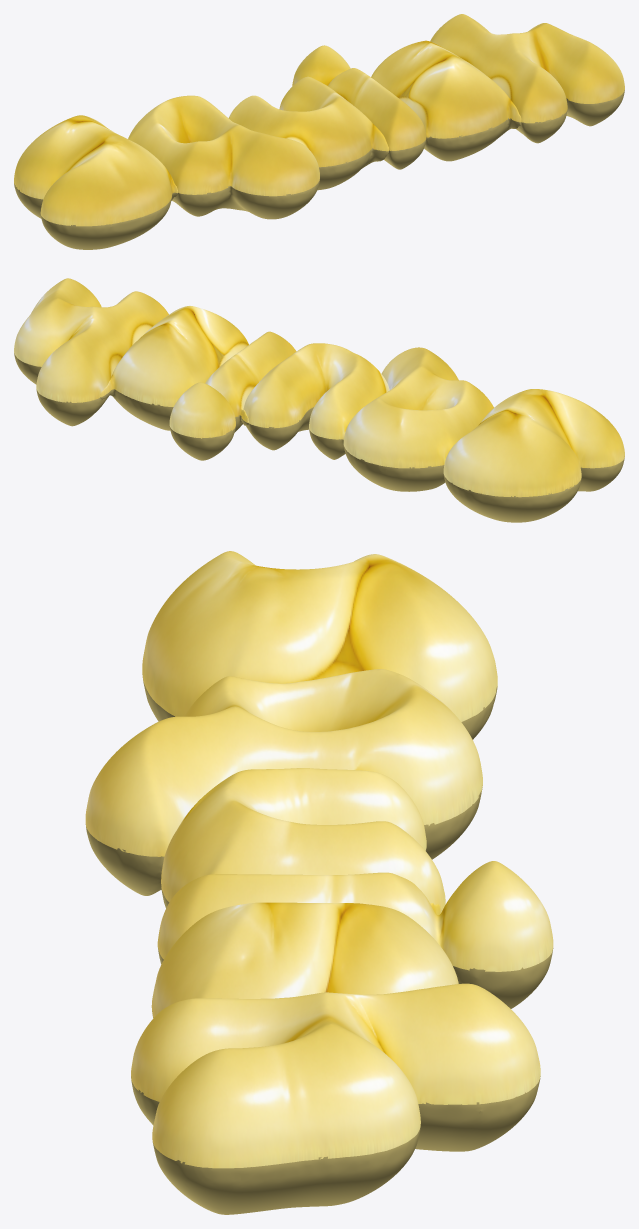
The model's file is squish-yellow-smoothed.glb.
The picture shows the model from 3 angles, top to bottom: view 1: azimuth 30°, elevation 25°; view 2: azimuth 150°, elevation 25°; view 3: azimuth 270°, elevation 25°; orthographic projection. The views are drawn at different scales.
Parts seen in each view (by area): view 1: 01 • s • reference traced • smooth web, 02 • q • reference traced • smooth web, 06 • h • reference traced • smooth web, 05 • s • reference traced • smooth web, 03 • u • reference traced • smooth web, 04 • i • reference traced • smooth web; view 2: 01 • s • reference traced • smooth web, 02 • q • reference traced • smooth web, 06 • h • reference traced • smooth web, 03 • u • reference traced • smooth web, 05 • s • reference traced • smooth web, 04 • i • reference traced • smooth web; view 3: 06 • h • reference traced • smooth web, 02 • q • reference traced • smooth web, 01 • s • reference traced • smooth web, 03 • u • reference traced • smooth web, 05 • s • reference traced • smooth web, 04 • i • reference traced • smooth web.
Part boxes in pixels (x1,y1,x2,y2): 01 • s • reference traced • smooth web: [14, 115, 177, 249]; 02 • q • reference traced • smooth web: [128, 95, 319, 219]; 06 • h • reference traced • smooth web: [430, 14, 624, 143]; 05 • s • reference traced • smooth web: [371, 40, 521, 161]; 03 • u • reference traced • smooth web: [228, 76, 388, 190]; 04 • i • reference traced • smooth web: [292, 45, 426, 169]; 01 • s • reference traced • smooth web: [443, 389, 624, 522]; 02 • q • reference traced • smooth web: [343, 347, 493, 491]; 06 • h • reference traced • smooth web: [14, 278, 168, 426]; 03 • u • reference traced • smooth web: [243, 343, 389, 459]; 05 • s • reference traced • smooth web: [100, 306, 248, 430]; 04 • i • reference traced • smooth web: [169, 331, 296, 460]; 06 • h • reference traced • smooth web: [131, 983, 540, 1214]; 02 • q • reference traced • smooth web: [85, 669, 482, 895]; 01 • s • reference traced • smooth web: [142, 551, 497, 739]; 03 • u • reference traced • smooth web: [161, 768, 445, 910]; 05 • s • reference traced • smooth web: [151, 902, 458, 1017]; 04 • i • reference traced • smooth web: [157, 861, 553, 1008].
Size of the model in its own units: 7.83 by 1.32 by 2.77.
Materials: 2 (1 with a texture image).
